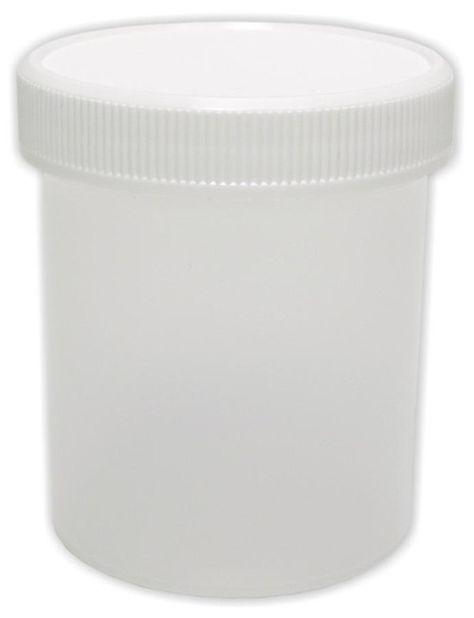HDPE: (38, 169, 430, 602), (15, 14, 458, 198)
